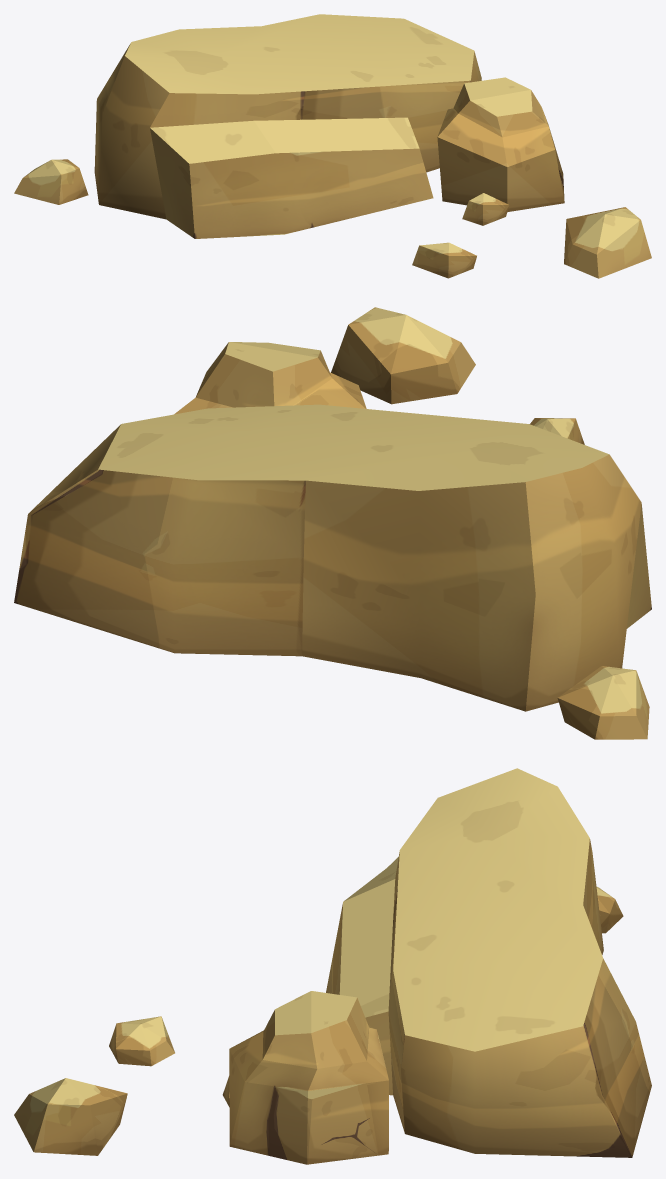
File: F_W_O_rock_003.fbx
3 renders of one model, top to bottom at view 1: azimuth 30°, elevation 25°; view 2: azimuth 150°, elevation 25°; view 3: azimuth 270°, elevation 25°, orthographic. The views are drawn at different scales.
Parts seen in each view (by area): view 1: F_W_O_rock_003; view 2: F_W_O_rock_003; view 3: F_W_O_rock_003.
Boxes of the visible parts, x1,y1,x2,y2 form: F_W_O_rock_003: (14, 14, 651, 278); F_W_O_rock_003: (14, 307, 651, 739); F_W_O_rock_003: (14, 768, 651, 1164).
Size of the model in its own units: 9.04 by 2.86 by 9.21.
